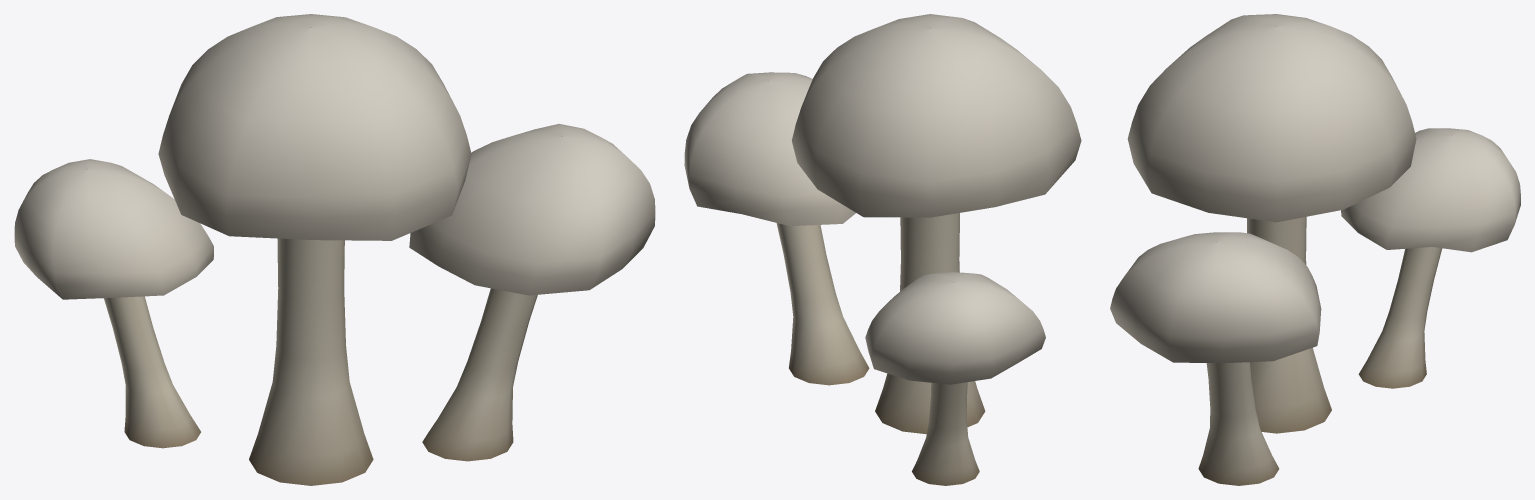
The model's file is mushroom-glow-cluster.glb.
3 views of the same model, side by side, from view 1: azimuth 30°, elevation 25°; view 2: azimuth 150°, elevation 25°; view 3: azimuth 270°, elevation 25° (orthographic). The views are drawn at different scales.
Parts seen in each view (by area): view 1: mushroom-glow-cluster; view 2: mushroom-glow-cluster; view 3: mushroom-glow-cluster.
Boxes of the visible parts, x1,y1,x2,y2 form: mushroom-glow-cluster: [14, 14, 655, 485]; mushroom-glow-cluster: [684, 14, 1081, 485]; mushroom-glow-cluster: [1110, 14, 1520, 485].
Size of the model in its own units: 0.2917 by 0.25 by 0.2428.
